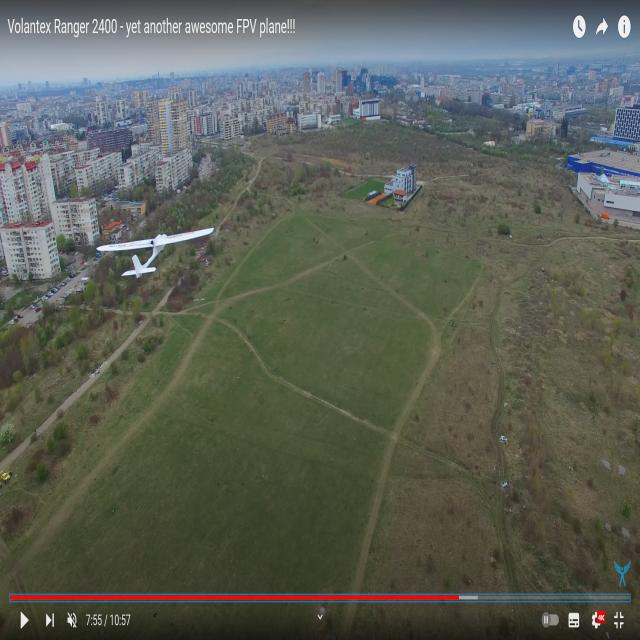iha: (132, 223, 183, 277)
